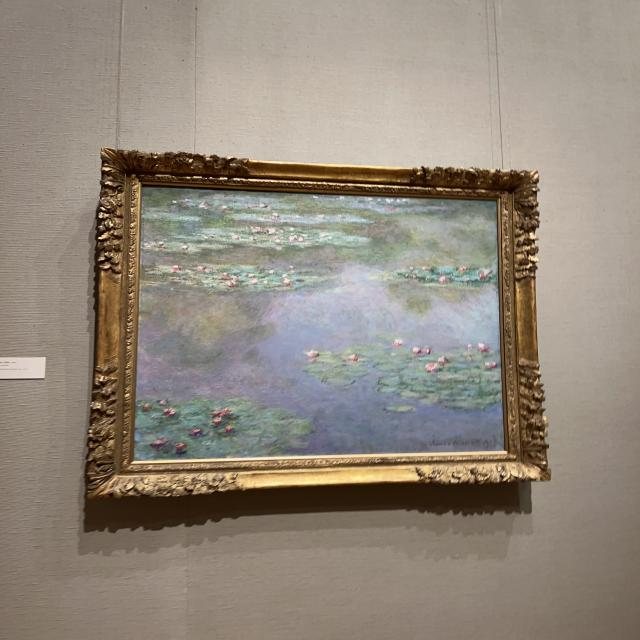lilies: (133, 184, 506, 460)
